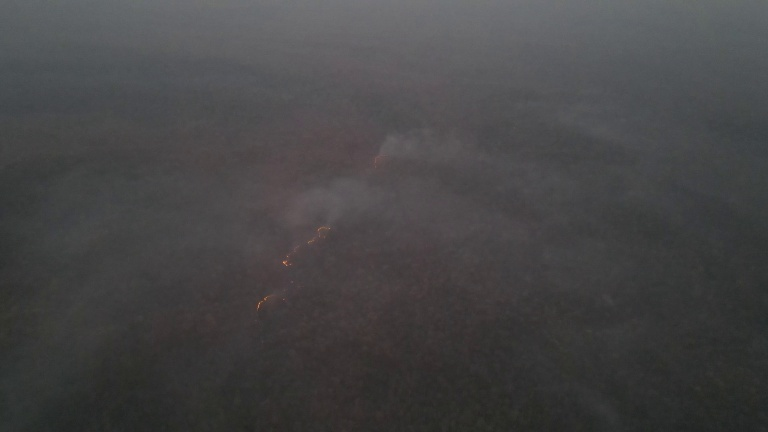fire: (277, 222, 331, 272), (251, 289, 271, 313)
smoke: (285, 176, 414, 230)
